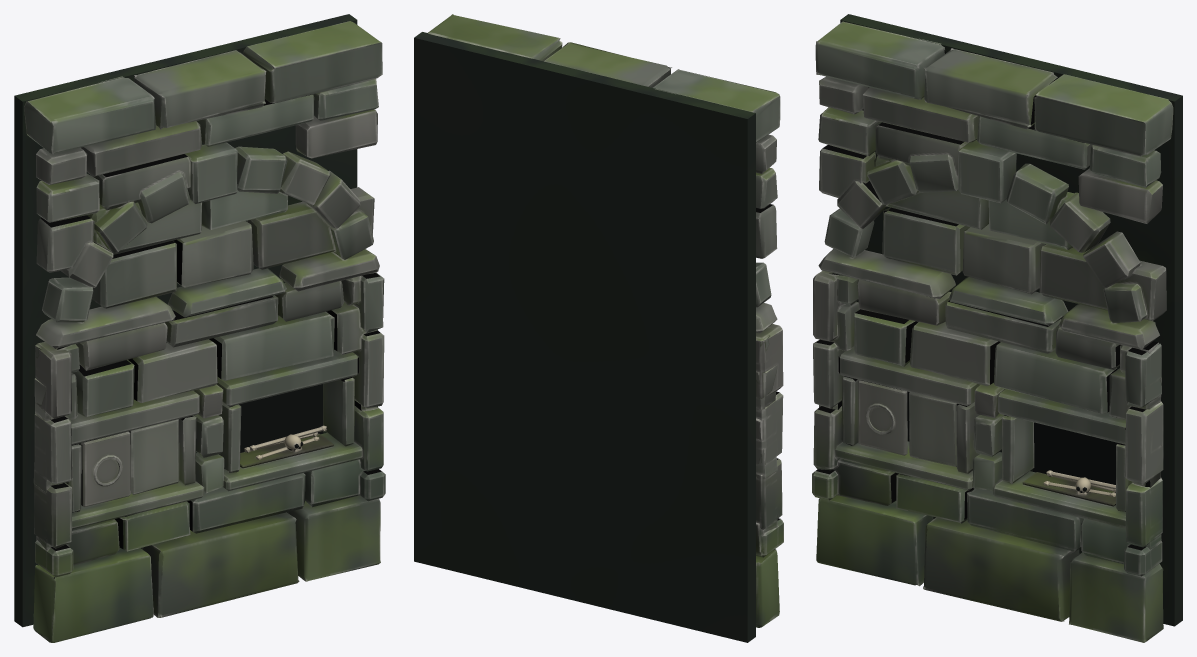
File: crypt_wall.glb
The picture shows the model from 3 angles, left to right: view 1: azimuth 30°, elevation 25°; view 2: azimuth 150°, elevation 25°; view 3: azimuth 330°, elevation 25°; orthographic projection.
Visible parts, largest first — view 1: crypt_wall; view 2: crypt_wall; view 3: crypt_wall.
Part boxes in pixels (<box>): crypt_wall: <box>14,14,385,642</box>; crypt_wall: <box>414,14,783,642</box>; crypt_wall: <box>812,14,1182,642</box>.
Size of the model in its own units: 4 by 6.01 by 0.81.
1 material, 1 textured.
